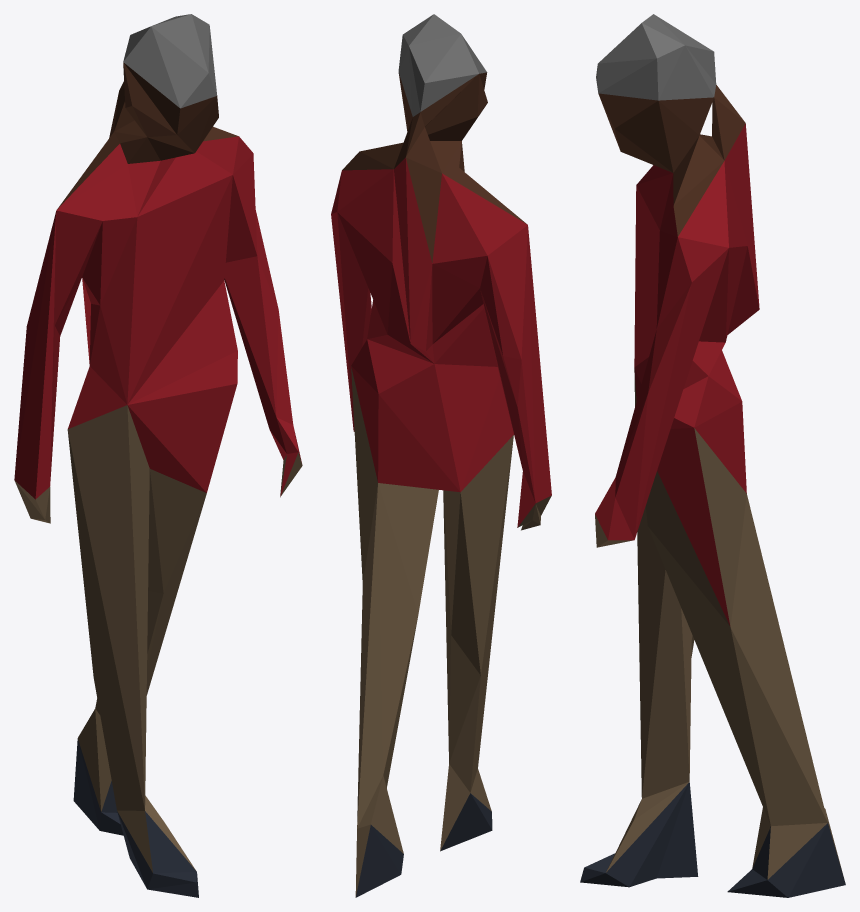
File: walker-4.glb
3 views of the same model, side by side, from view 1: azimuth 30°, elevation 25°; view 2: azimuth 150°, elevation 25°; view 3: azimuth 270°, elevation 25° (orthographic). The views are drawn at different scales.
Parts seen in each view (by area): view 1: Woman01; view 2: Woman01; view 3: Woman01.
Boxes of the visible parts, <box> form: Woman01: <box>14,14,302,897</box>; Woman01: <box>331,14,551,897</box>; Woman01: <box>580,14,845,897</box>.
Size of the model in its own units: 0.4552 by 1.57 by 0.4355.
